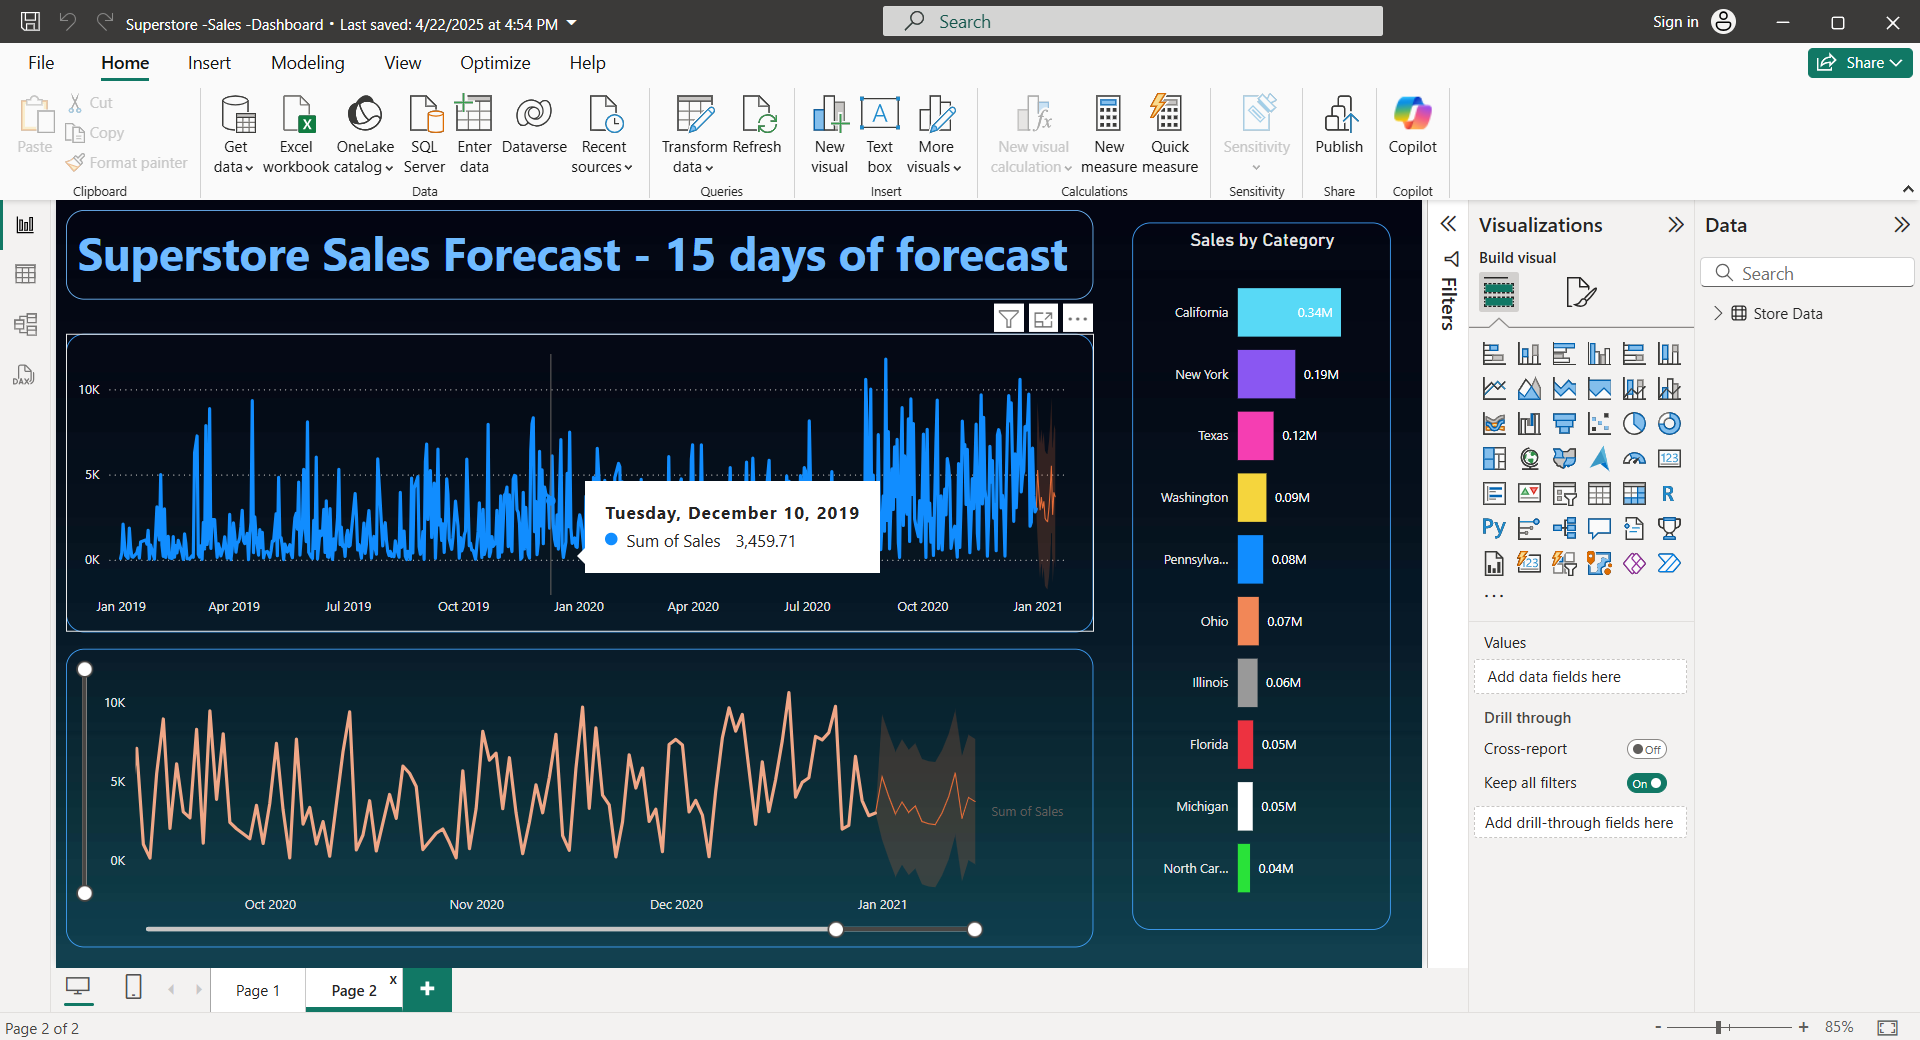

The page's visual inventory and layout, read from the dashboard file:
{"tool":"powerbi","page":{"name":"Page 2","canvas":[1280,720],"ordinal":1},"visuals":[{"type":"textbox","box":[9.4,9.4,963.3,84.4],"z":0},{"type":"lineChart","fields":{"Y":["Sum(Store Data.Sales)"],"Category":["Store Data.Order Date"]},"box":[9.6,124.9,963.3,279.9],"z":1000},{"type":"lineChart","fields":{"Y":["Sum(Store Data.Sales)"],"Category":["Store Data.Order Date"]},"box":[9.4,420.7,963.3,280.1],"z":2000},{"type":"barChart","title":" Sales by Category","fields":{"Y":["Sum(Store Data.Sales)"],"Category":["Store Data.State"]},"box":[1009,21.1,242.6,663.3],"z":3000}]}

Visuals, with their boxes on the page's 1280x720 design canvas (x1, y1, x2, y2). These are canvas units, not pixel positions in the 1920x1040 screenshot, which may show the page scaled, cropped or inside an application window:
textbox: {"x1": 9, "y1": 9, "x2": 973, "y2": 94}
lineChart - Sum(Store Data.Sales) x Store Data.Order Date: {"x1": 10, "y1": 125, "x2": 973, "y2": 405}
lineChart - Sum(Store Data.Sales) x Store Data.Order Date: {"x1": 9, "y1": 421, "x2": 973, "y2": 701}
" Sales by Category" barChart: {"x1": 1009, "y1": 21, "x2": 1252, "y2": 684}
